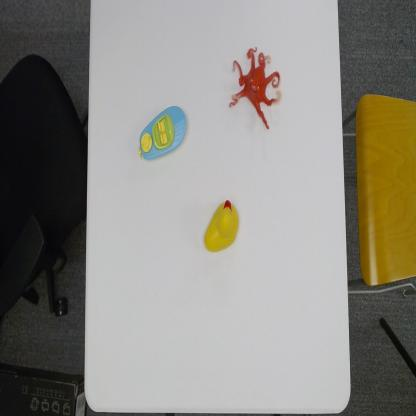Boat: (137, 104, 189, 162)
Duck: (203, 197, 241, 255)
Octopus: (228, 46, 281, 134)
